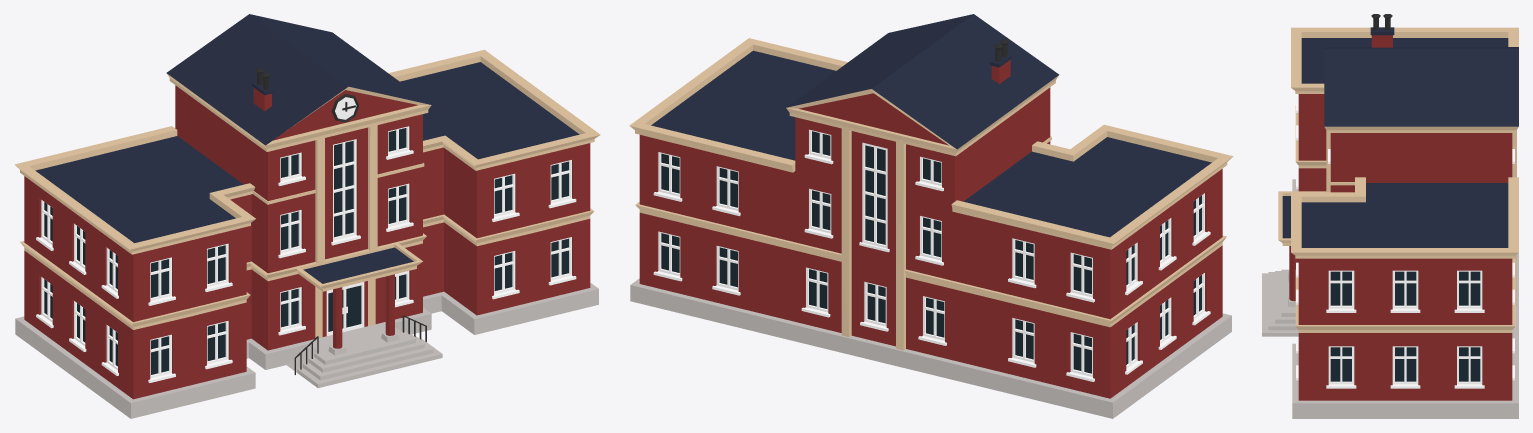
Rendered from building-school.glb.
3 views of the same model, side by side, from view 1: azimuth 30°, elevation 25°; view 2: azimuth 150°, elevation 25°; view 3: azimuth 270°, elevation 25° (orthographic). The views are drawn at different scales.
Parts seen in each view (by area): view 1: building-school; view 2: building-school; view 3: building-school.
Part boxes in pixels (x1=…): building-school: x1=14, y1=14, x2=600, y2=418; building-school: x1=629, y1=14, x2=1233, y2=418; building-school: x1=1262, y1=14, x2=1518, y2=418.
Bounding box in the file's own units: 24.9 × 13.72 × 12.01.
Materials: 1 (1 with a texture image).
